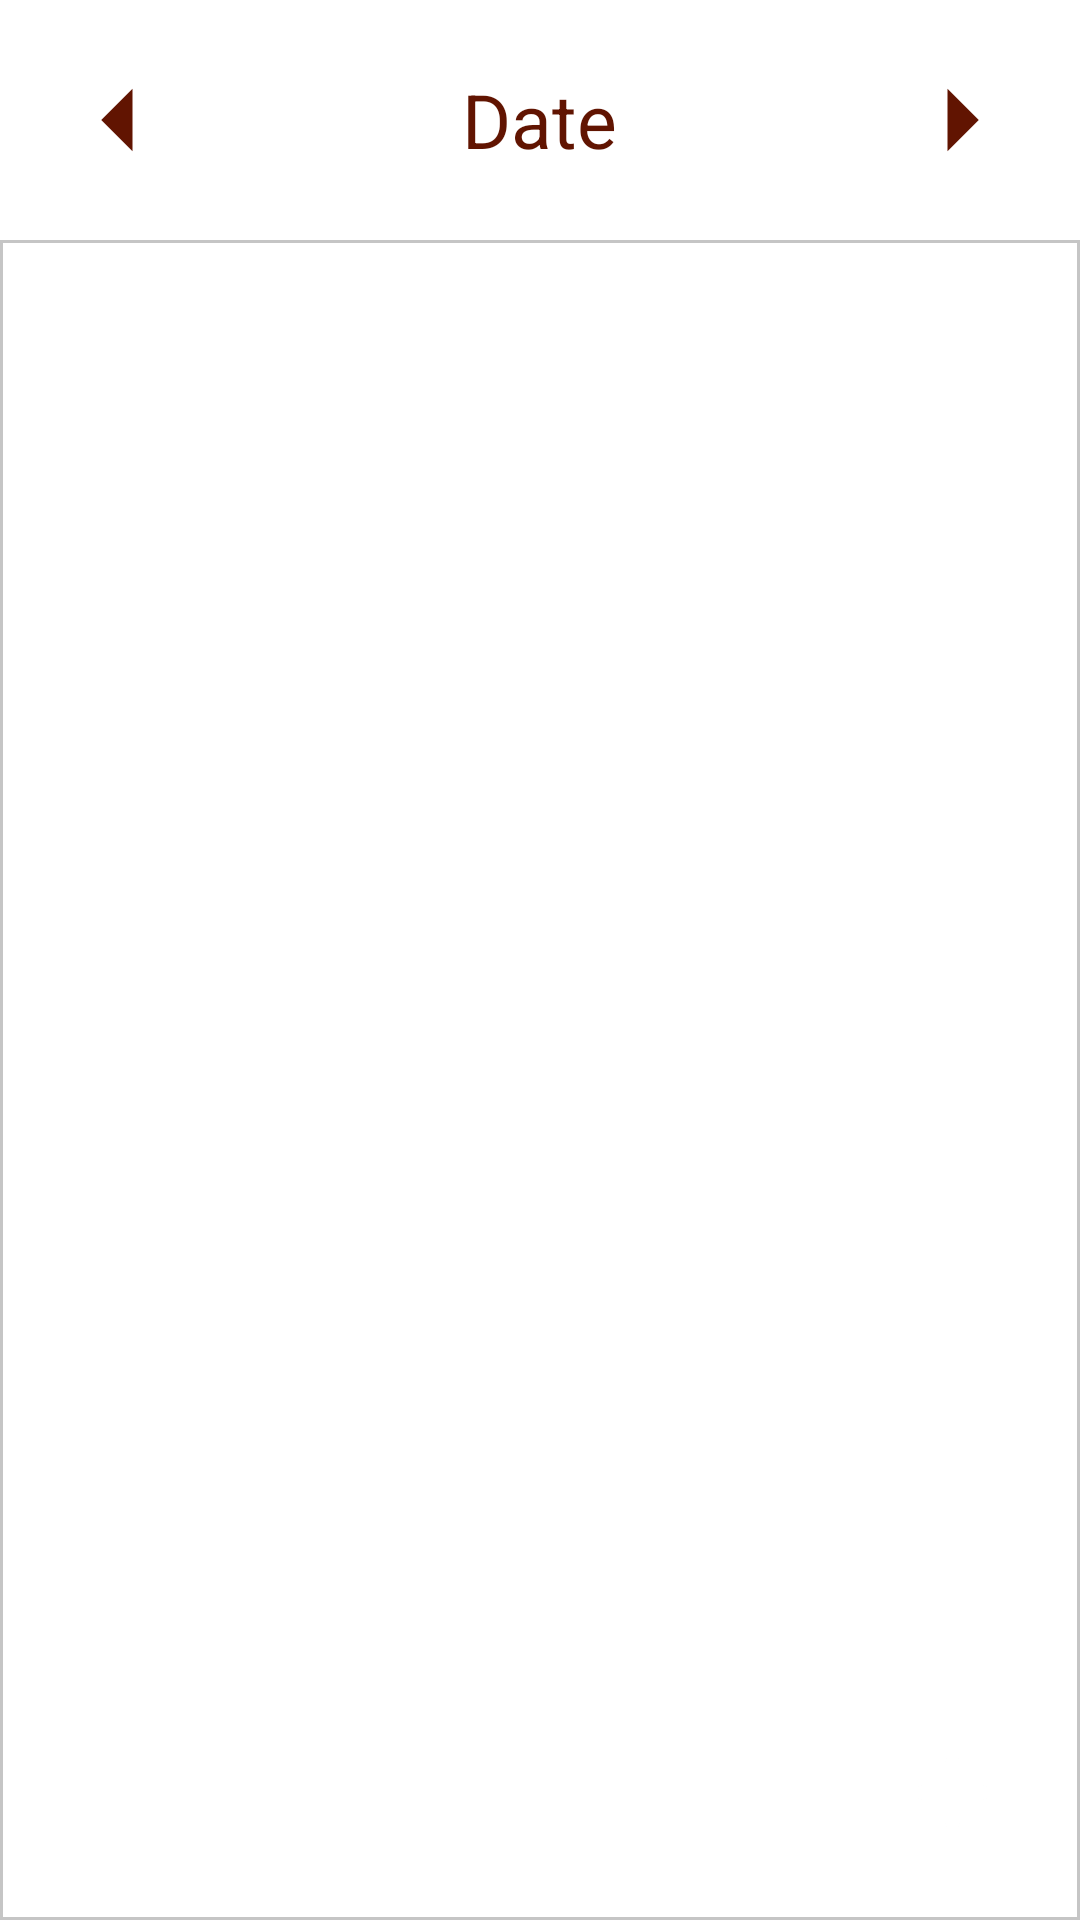

Screen size 1080px x 1920px. Icon name, then its box in pixels as (x1, y1, x2, y2):
arrow left: (101, 89, 133, 151)
arrow right: (947, 89, 979, 151)
